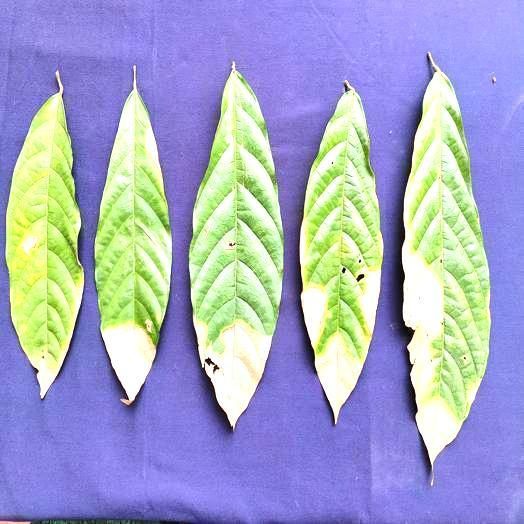Potassium: (403, 53, 490, 468), (189, 64, 283, 427), (300, 81, 382, 422), (95, 66, 171, 404), (6, 72, 83, 397)
